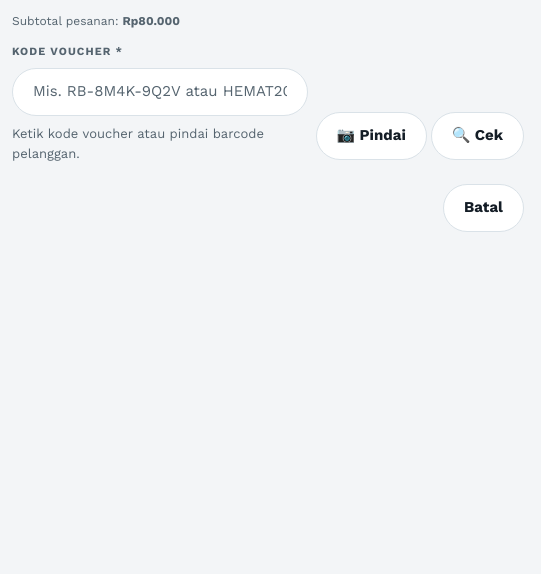
Test: VoucherKasir (T8-09) › tombol Cek bersifat BACA SAJA dan menampilkan rincian promo kampanye
Type "vc-hemat20" into the field labelled "Kode voucher *". click: (160, 92)
box: [12,68,308,116]
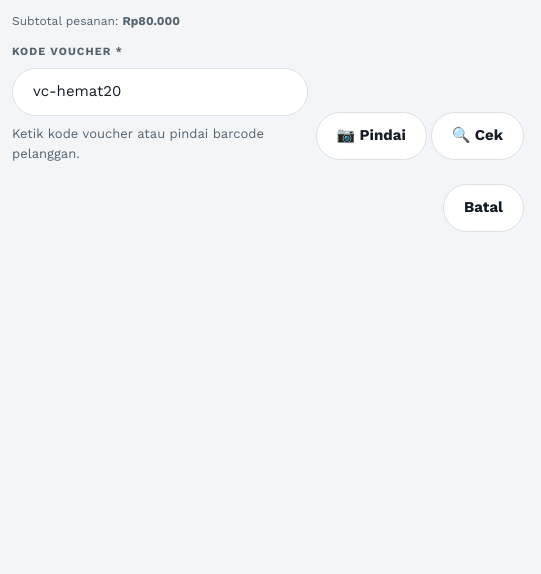
Click the button with aria-label "Cek voucher". click: (477, 136)
box: [431,112,524,160]
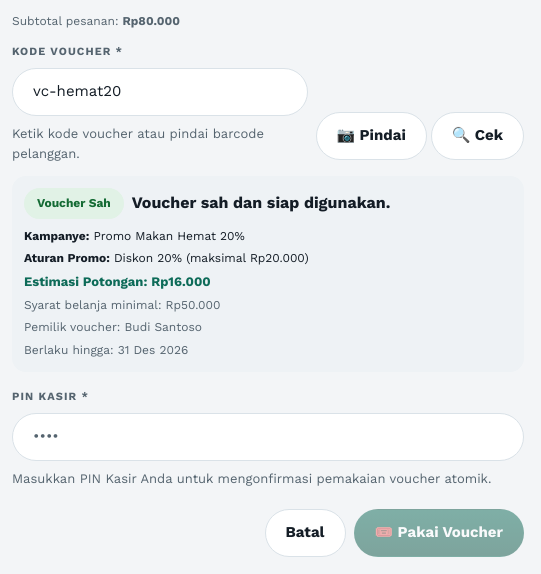
Expected: the element with test id "voucher-hasil-cek-sukses" is shown, [12,176,524,372]
Expected: the text "Voucher Sah" is shown, [24,188,124,218]
Expected: the element with test id "voucher-nama-kampanye" shows "Promo Makan Hemat 20%", [93,228,245,242]
